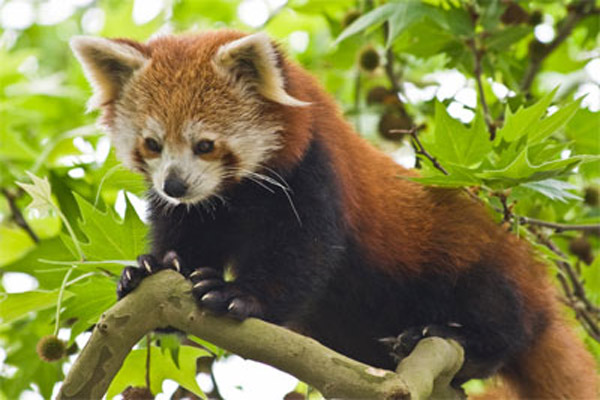red_panda: (71, 31, 594, 398)
